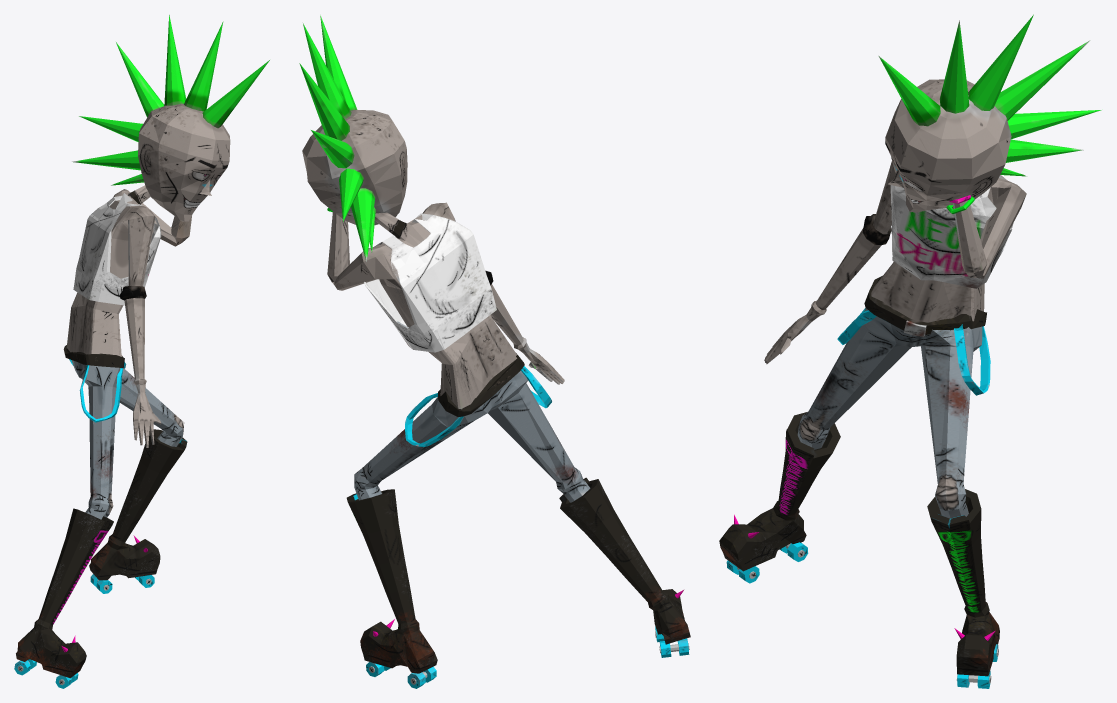
File: punkAnimation_000016.obj
3 renders of one model, left to right at view 1: azimuth 30°, elevation 25°; view 2: azimuth 150°, elevation 25°; view 3: azimuth 270°, elevation 25°, orthographic. The views are drawn at different scales.
Visible parts, largest first — view 1: Cube.004_Cube.003; view 2: Cube.004_Cube.003; view 3: Cube.004_Cube.003.
Boxes of the visible parts, box(x1,y1,x2,y2) form: Cube.004_Cube.003: box(14, 15, 269, 688); Cube.004_Cube.003: box(299, 15, 690, 688); Cube.004_Cube.003: box(719, 14, 1101, 688).
Bounding box in the file's own units: 3.67 × 6.62 × 3.22.
